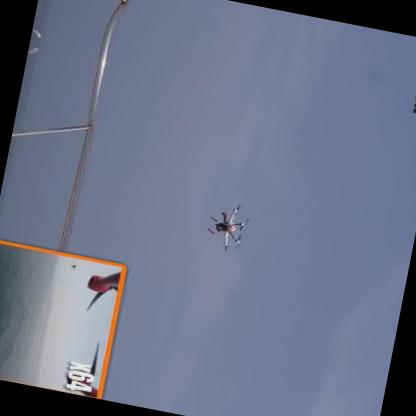drone: (194, 200, 254, 251)
